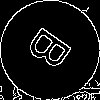B: (25, 25, 81, 78)
